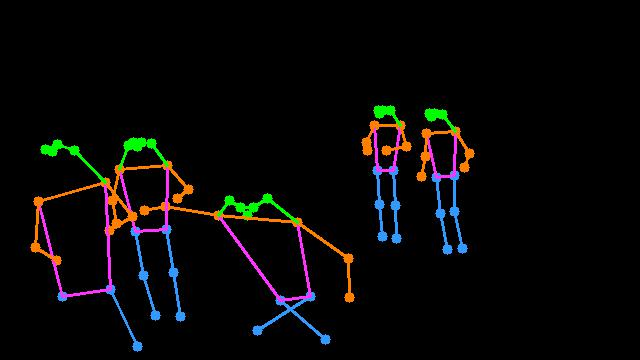normal: (409, 104, 482, 263), (355, 95, 417, 254)
